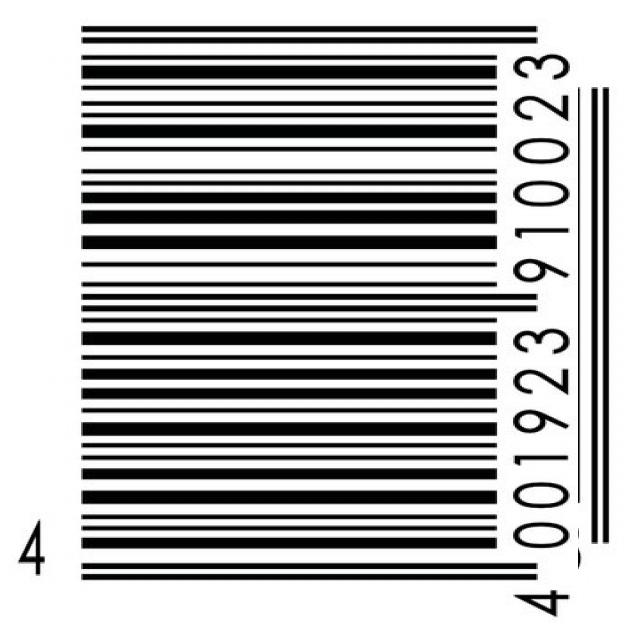Barkod: (30, 36, 598, 604)
